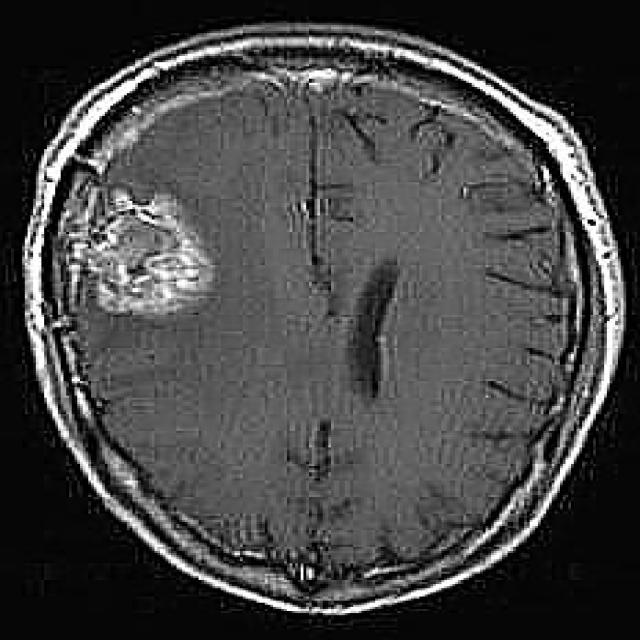Tumor-Cell: (84, 187, 222, 339)
